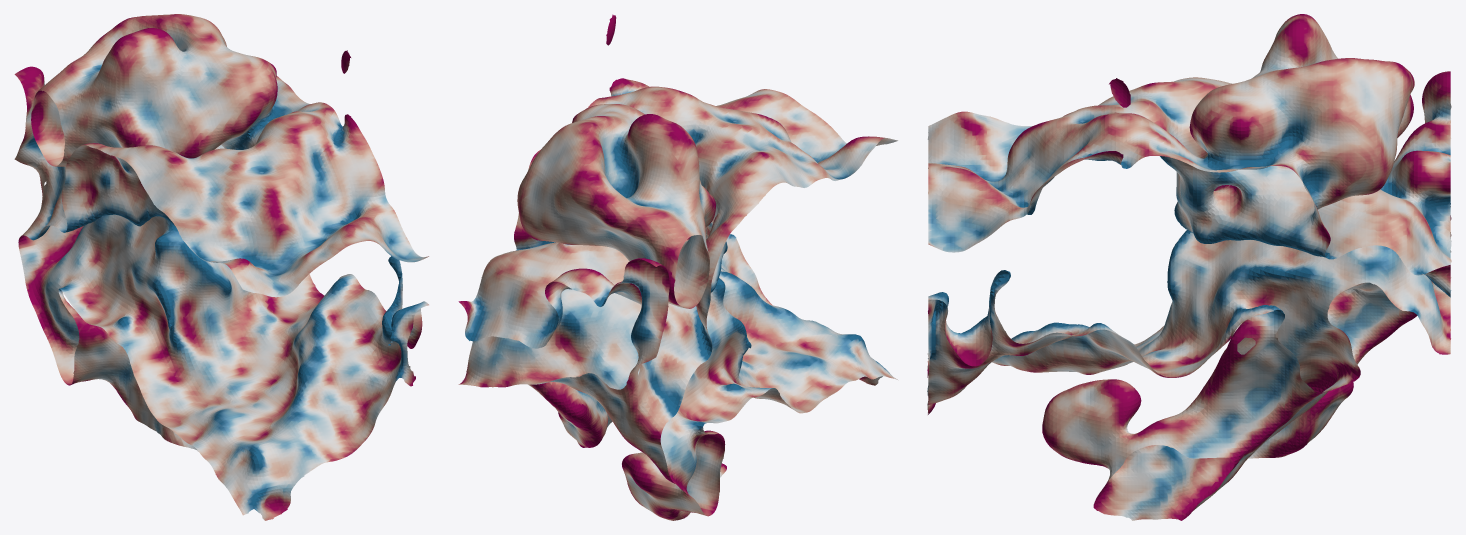
Rendered from crop1026_deviation.glb.
The picture shows the model from 3 angles, left to right: view 1: azimuth 30°, elevation 25°; view 2: azimuth 150°, elevation 25°; view 3: azimuth 270°, elevation 25°; orthographic projection. The views are drawn at different scales.
Visible parts, largest first — view 1: world; view 2: world; view 3: world.
Part boxes in pixels (x1,y1,x2,y2): world: [14, 14, 428, 520]; world: [458, 14, 897, 520]; world: [927, 14, 1451, 520].
Bounding box in the file's own units: 1080 × 2132 × 2280.
